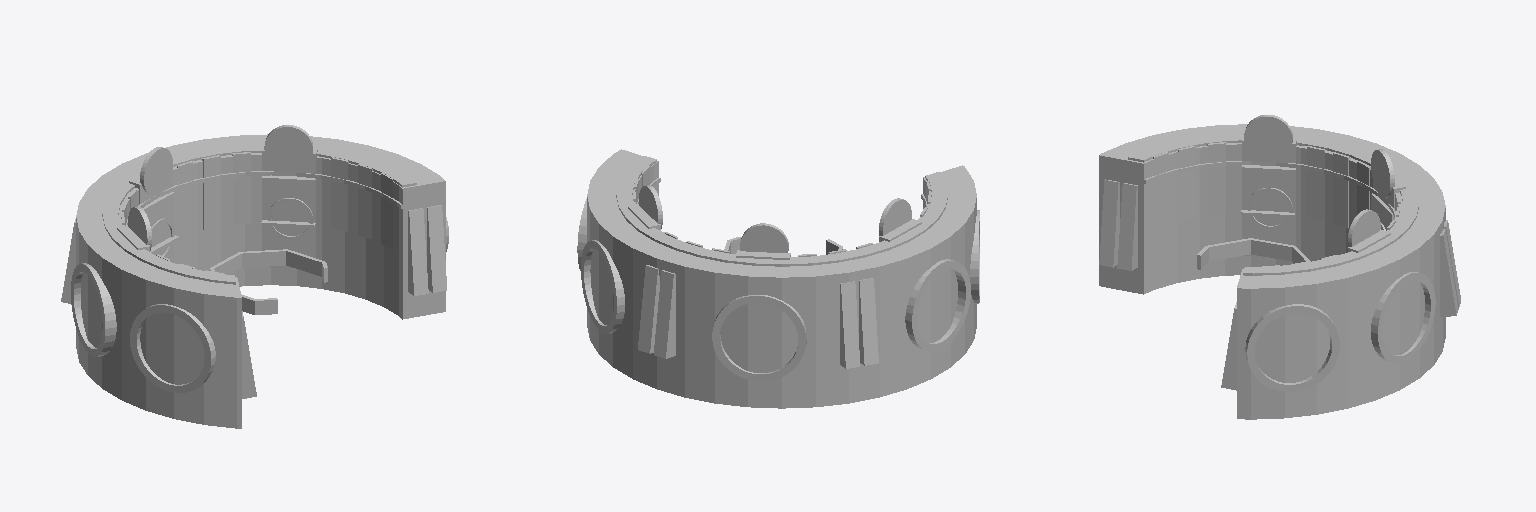
The model's file is plaza.obj.
3 renders of one model, left to right at view 1: azimuth 30°, elevation 25°; view 2: azimuth 150°, elevation 25°; view 3: azimuth 270°, elevation 25°, orthographic.
Visible parts, largest first — view 1: plaza_Nulo_1_Nulo__1_Cilindro.001; view 2: plaza_Nulo_1_Nulo__1_Cilindro.001; view 3: plaza_Nulo_1_Nulo__1_Cilindro.001.
Boxes of the visible parts, box(x1,y1,x2,y2) form: plaza_Nulo_1_Nulo__1_Cilindro.001: box(61, 125, 448, 428); plaza_Nulo_1_Nulo__1_Cilindro.001: box(577, 149, 979, 408); plaza_Nulo_1_Nulo__1_Cilindro.001: box(1099, 115, 1460, 419).
Bounding box in the file's own units: 11.47 × 5.03 × 10.2.